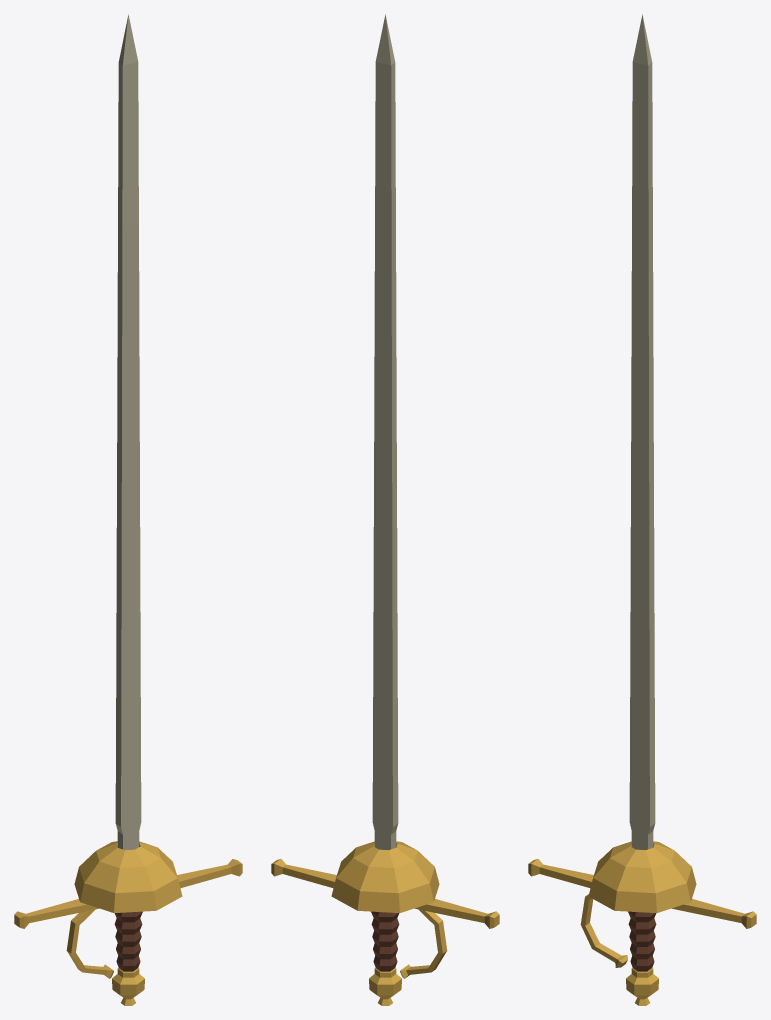
Rendered from Rapier_1.fbx.
3 views of the same model, side by side, from view 1: azimuth 30°, elevation 25°; view 2: azimuth 150°, elevation 25°; view 3: azimuth 330°, elevation 25° (orthographic).
Visible parts, largest first — view 1: Rapier_1; view 2: Rapier_1; view 3: Rapier_1.
Boxes of the visible parts, box(x1,y1,x2,y2) form: Rapier_1: box(14, 14, 242, 1005); Rapier_1: box(271, 14, 499, 1005); Rapier_1: box(528, 14, 756, 1005).
Bounding box in the file's own units: 31.25 × 133 × 13.58.
